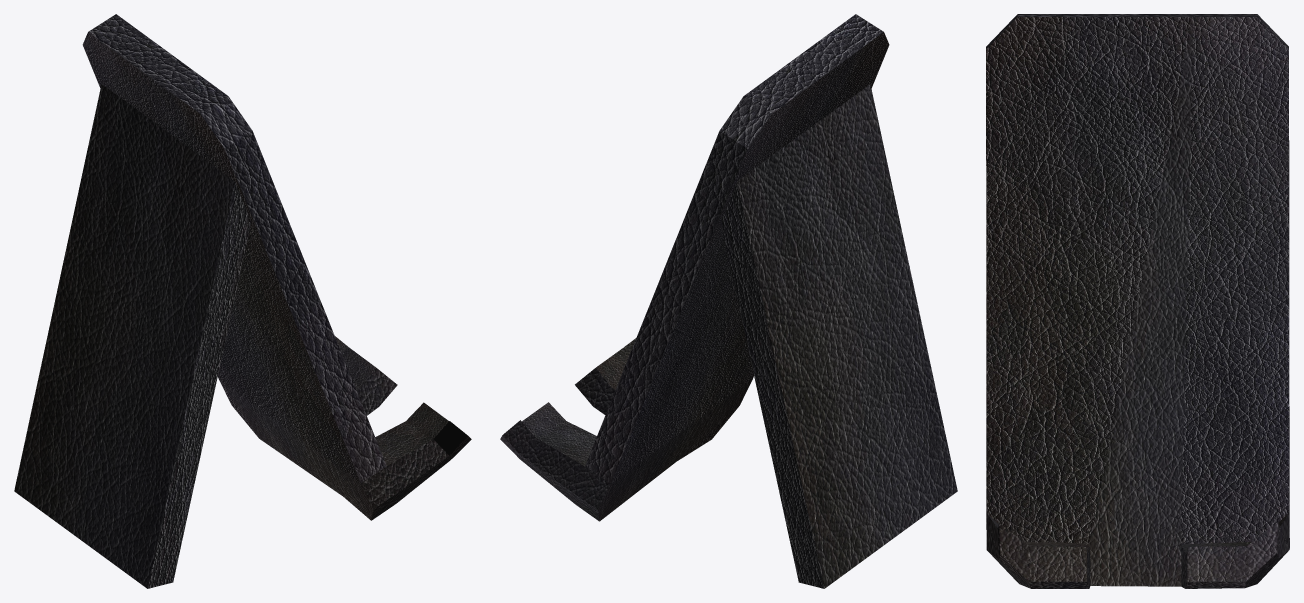
File: stand2.glb
The picture shows the model from 3 angles, left to right: view 1: azimuth 30°, elevation 25°; view 2: azimuth 150°, elevation 25°; view 3: azimuth 270°, elevation 25°; orthographic projection. The views are drawn at different scales.
Parts seen in each view (by area): view 1: Plane; view 2: Plane; view 3: Plane.
Boxes of the visible parts, x1,y1,x2,y2 form: Plane: (14,14,471,588); Plane: (500,14,957,588); Plane: (986,14,1289,588).
Bounding box in the file's own units: 0.7196 × 0.935 × 0.5212.
2 materials, 1 textured.
